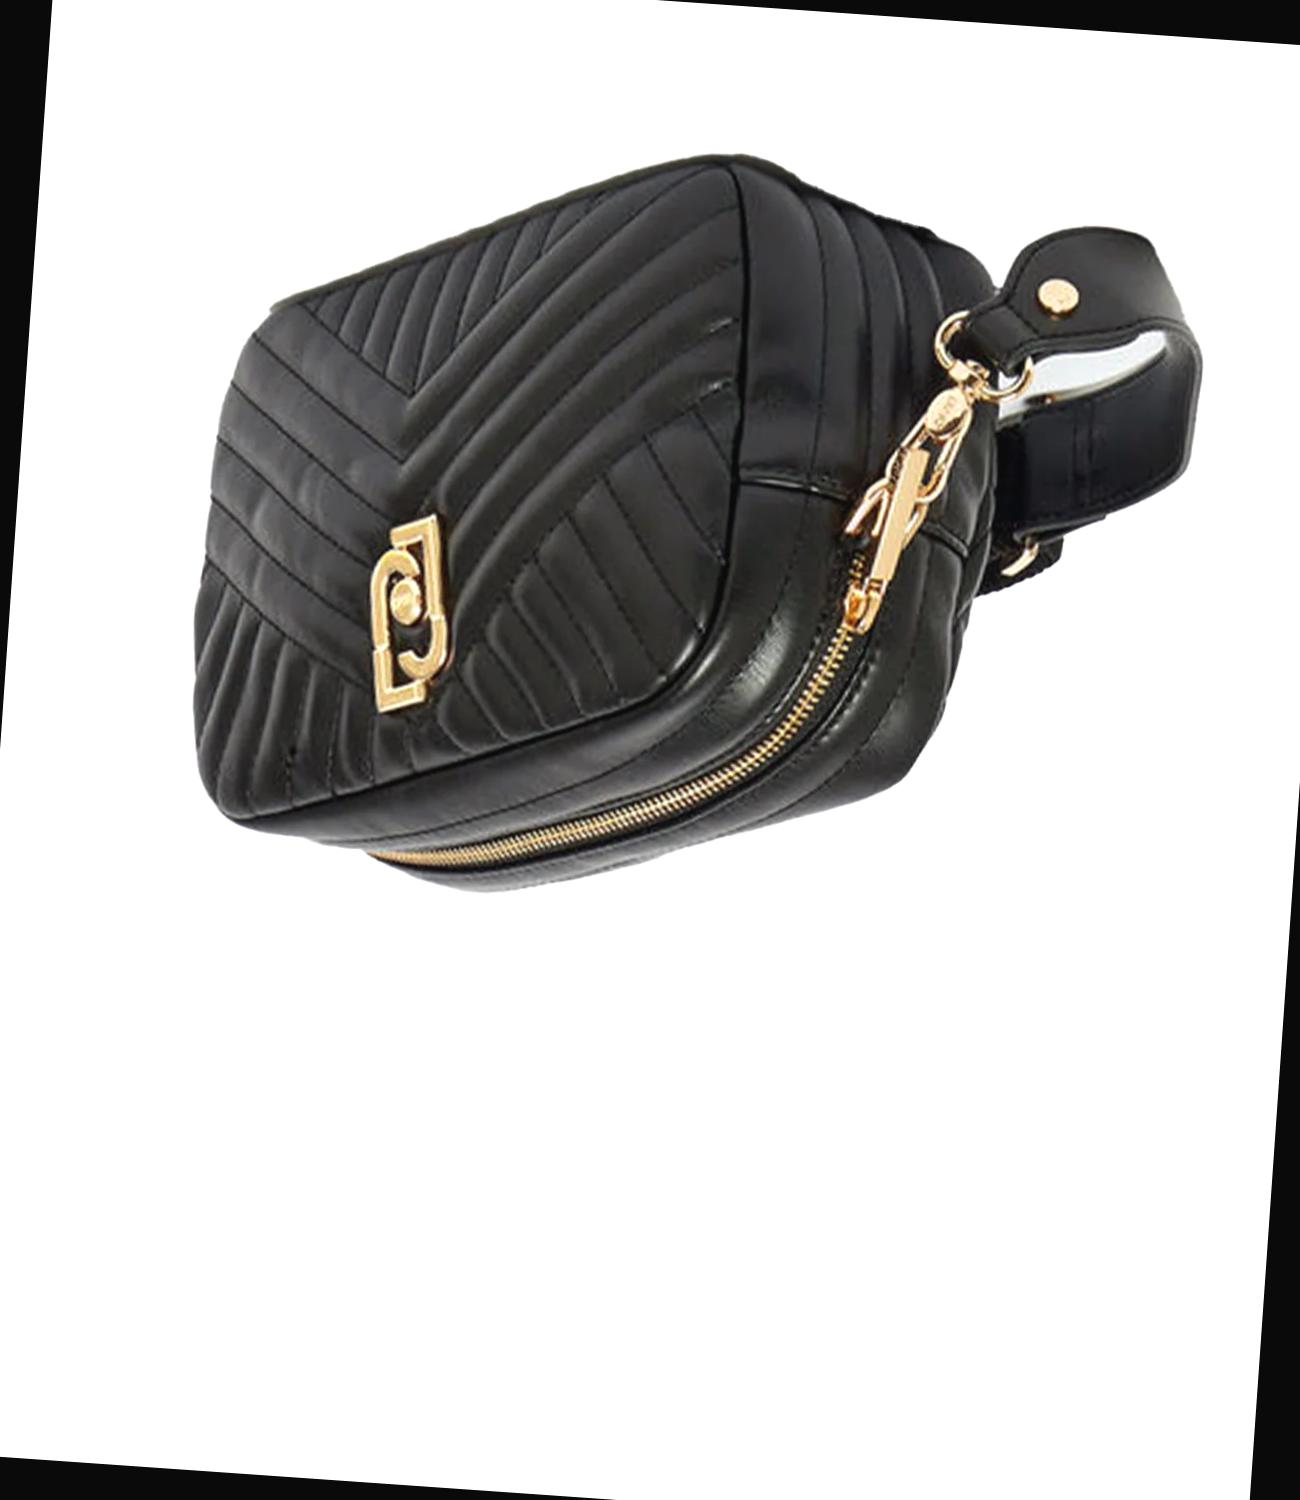LIU-JO: (356, 506, 453, 718)
